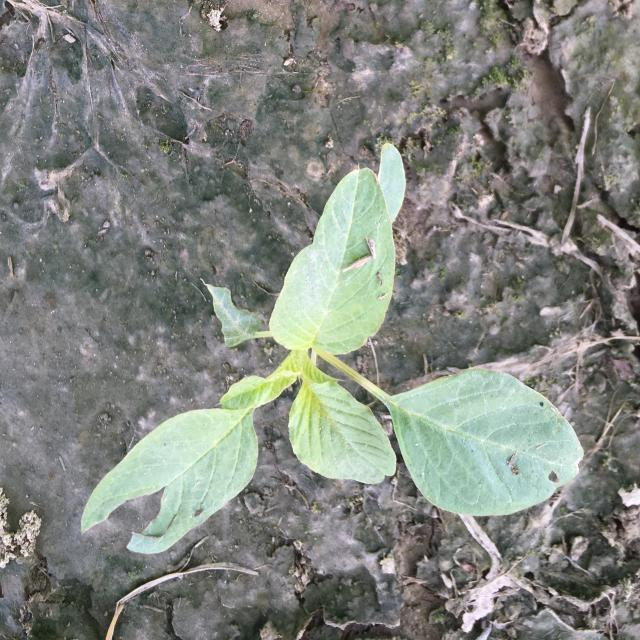PalmerAmaranth: (81, 143, 584, 554)
